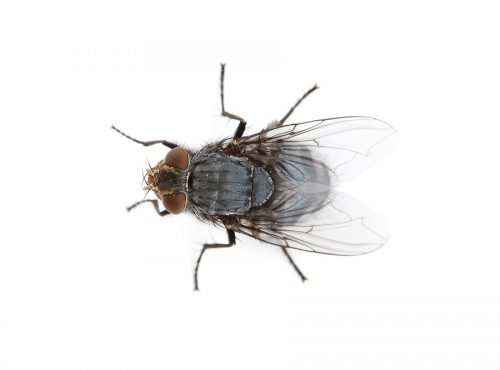house fly: (110, 59, 400, 306)
